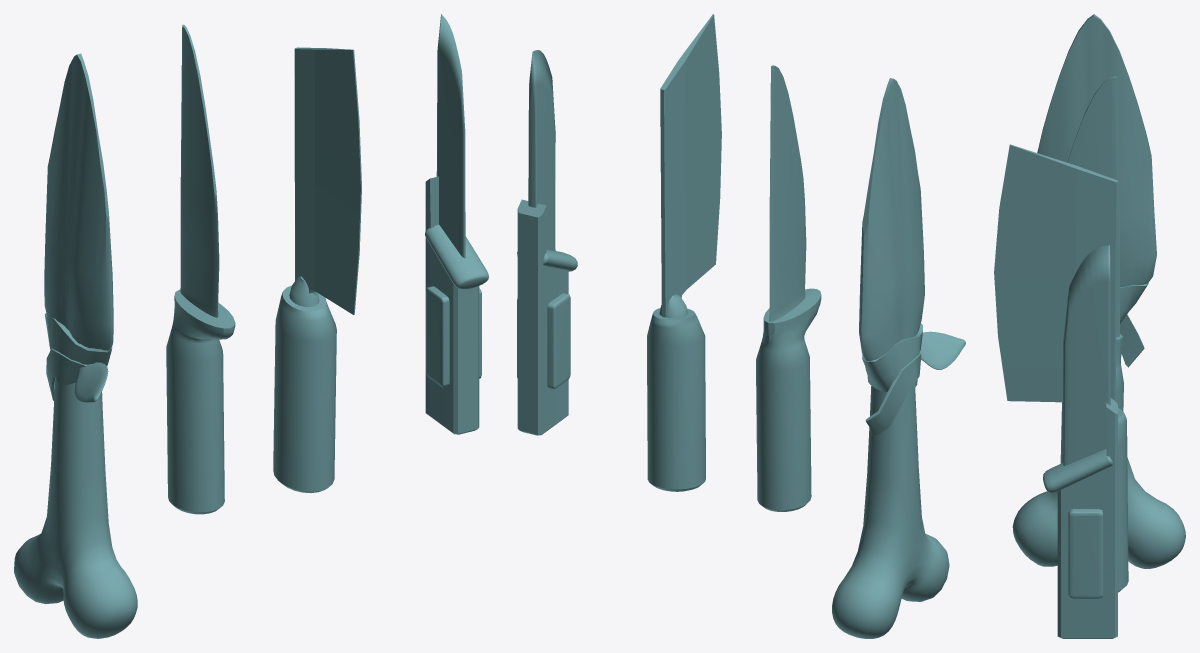
The model's file is sm_knifes.fbx.
3 renders of one model, left to right at view 1: azimuth 30°, elevation 25°; view 2: azimuth 150°, elevation 25°; view 3: azimuth 270°, elevation 25°, orthographic. The views are drawn at different scales.
Visible parts, largest first — view 1: SM_KNIFE_ROCK1, SM_KNIFE_G, SM_KNIFE_M, SM_KNIFE_IA; view 2: SM_KNIFE_ROCK1, SM_KNIFE_G, SM_KNIFE_M, SM_KNIFE_IA; view 3: SM_KNIFE_G, SM_KNIFE_IA, SM_KNIFE_ROCK1, SM_KNIFE_M.
Boxes of the visible parts, x1,y1,x2,y2 form: SM_KNIFE_ROCK1: [14, 53, 137, 638]; SM_KNIFE_G: [273, 47, 361, 493]; SM_KNIFE_M: [166, 24, 235, 514]; SM_KNIFE_IA: [425, 14, 488, 434]; SM_KNIFE_ROCK1: [832, 78, 965, 638]; SM_KNIFE_G: [647, 14, 721, 491]; SM_KNIFE_M: [756, 65, 821, 511]; SM_KNIFE_IA: [517, 50, 577, 435]; SM_KNIFE_G: [994, 144, 1128, 592]; SM_KNIFE_IA: [1043, 245, 1117, 638]; SM_KNIFE_ROCK1: [1012, 14, 1185, 568]; SM_KNIFE_M: [1060, 76, 1123, 463].
Size of the model in its own units: 47.64 by 61.1 by 19.3.
